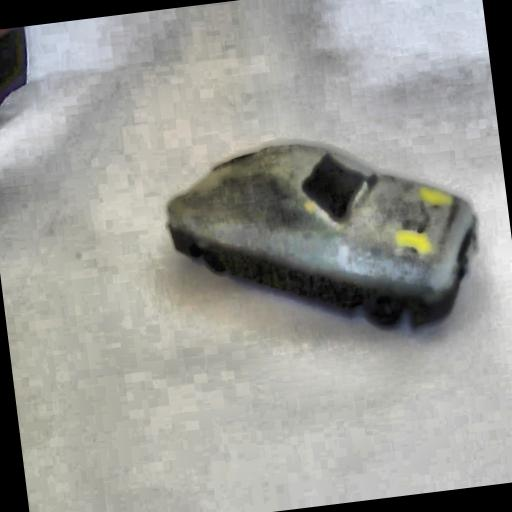normal_car: (153, 112, 494, 361)
